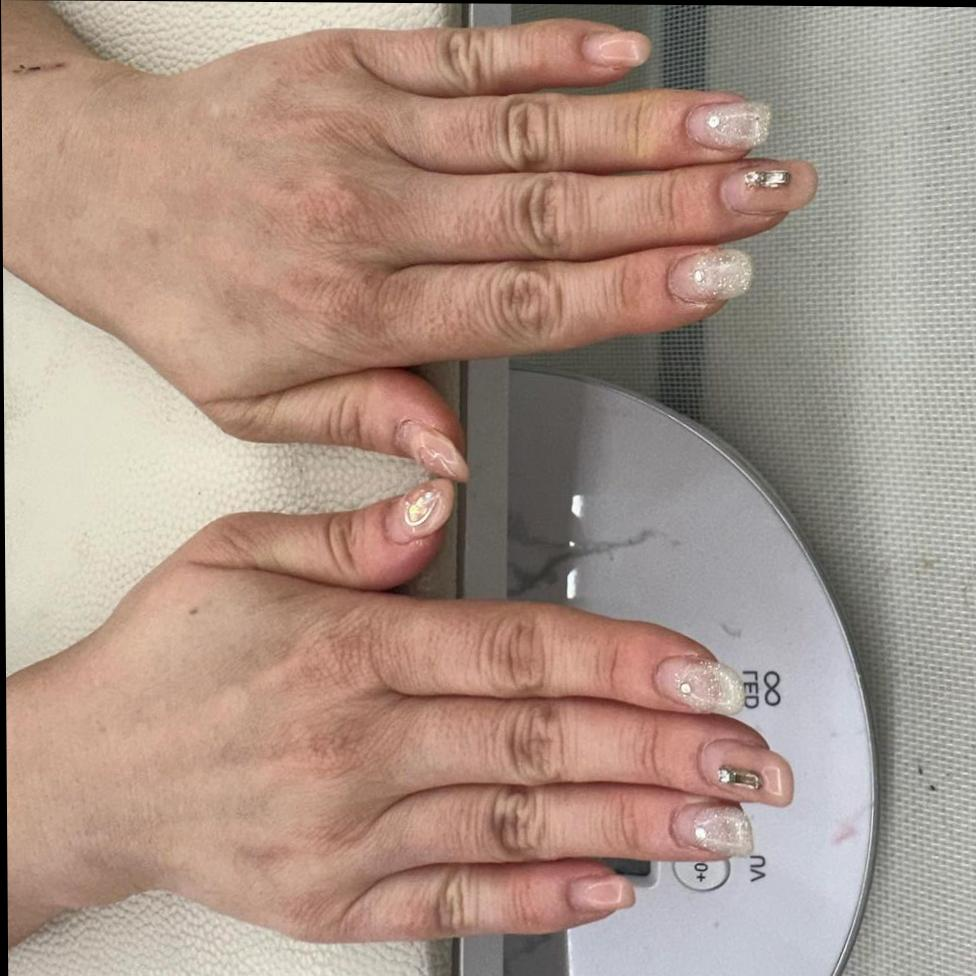nail: (696, 737, 792, 806), (651, 652, 745, 715), (717, 157, 817, 216), (664, 246, 753, 305), (668, 800, 752, 858), (683, 99, 770, 151), (577, 28, 650, 68), (564, 874, 633, 911), (401, 487, 439, 527), (715, 764, 760, 790), (741, 167, 788, 191)
